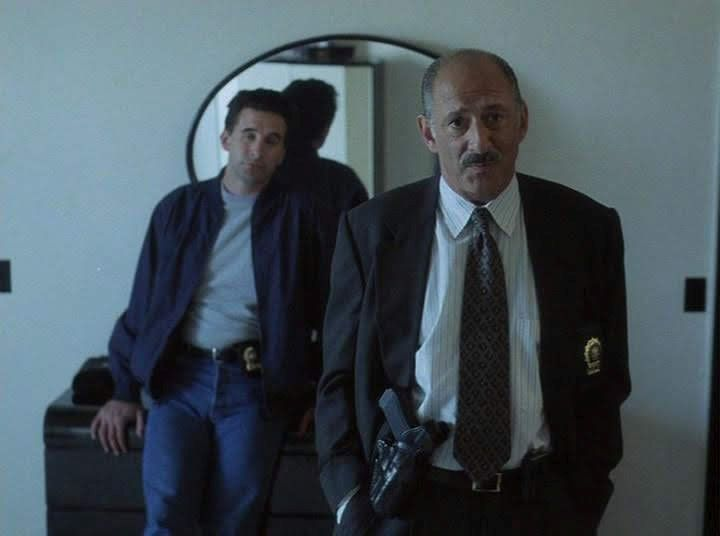gun: (358, 380, 440, 510)
